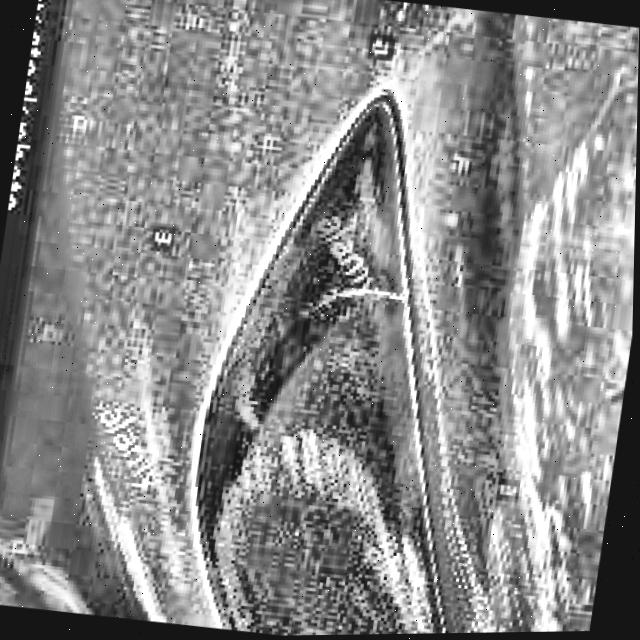bumper_scratch: (484, 143, 609, 415)
